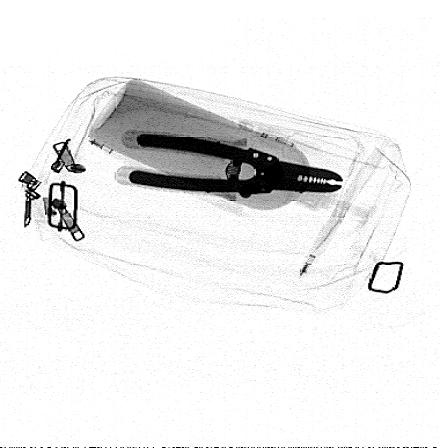Pliers: (127, 133, 345, 194)
